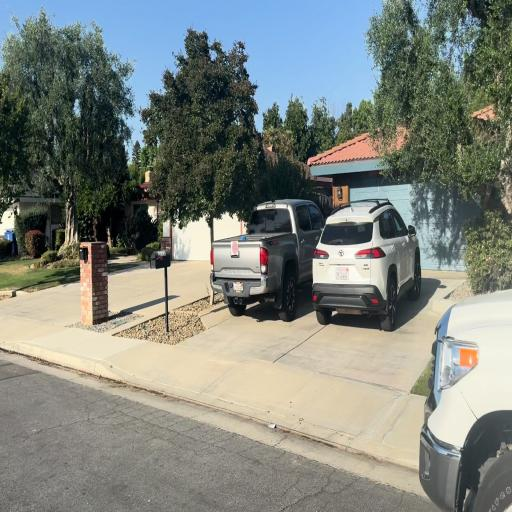bullseye: (231, 241, 238, 255)
